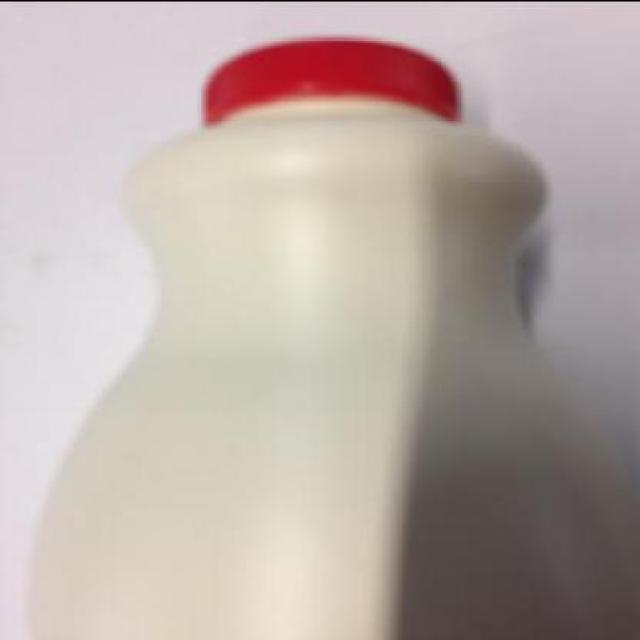PLASTIC: (20, 36, 638, 639), (205, 38, 458, 125)
